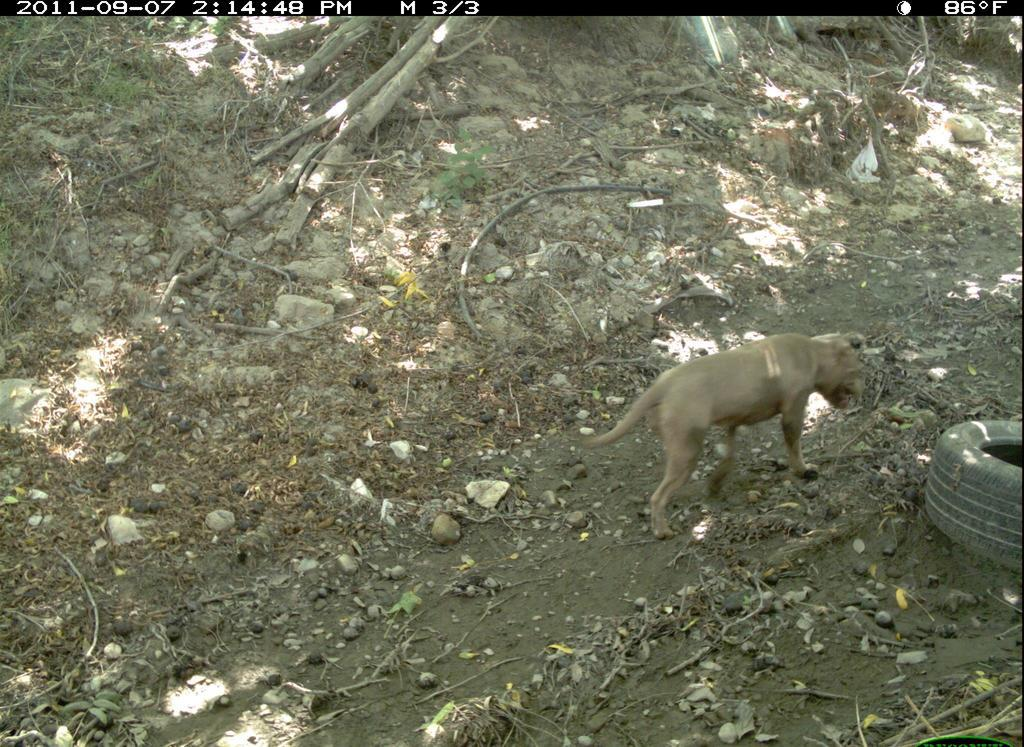dog: (573, 326, 875, 545)
